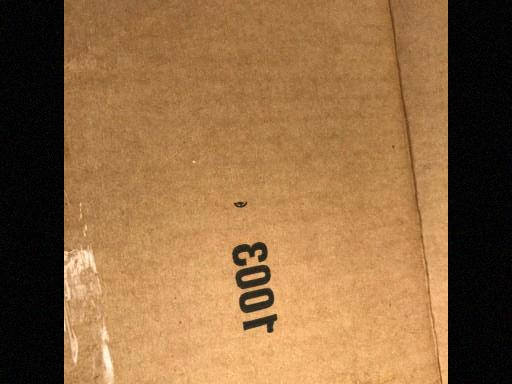cardboard: (72, 5, 444, 383)
